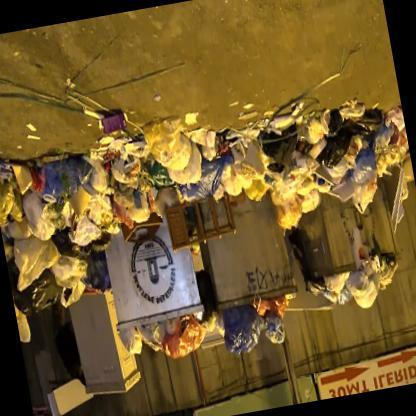Garbage: (260, 90, 415, 224), (0, 152, 110, 329), (138, 108, 282, 204), (78, 103, 174, 240), (310, 254, 404, 312), (116, 310, 210, 368), (215, 298, 297, 360)
